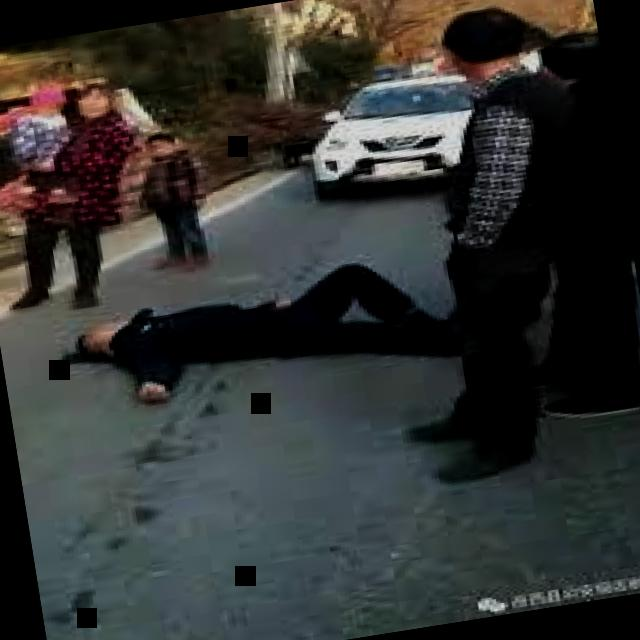Fall-Detected: (28, 224, 556, 415)
